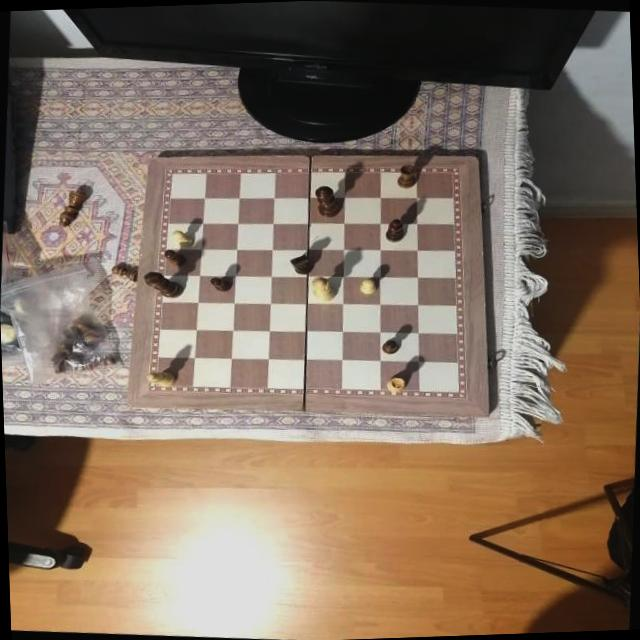corners: (143, 142, 167, 172), (464, 149, 496, 171), (120, 394, 146, 418), (476, 404, 502, 425)
